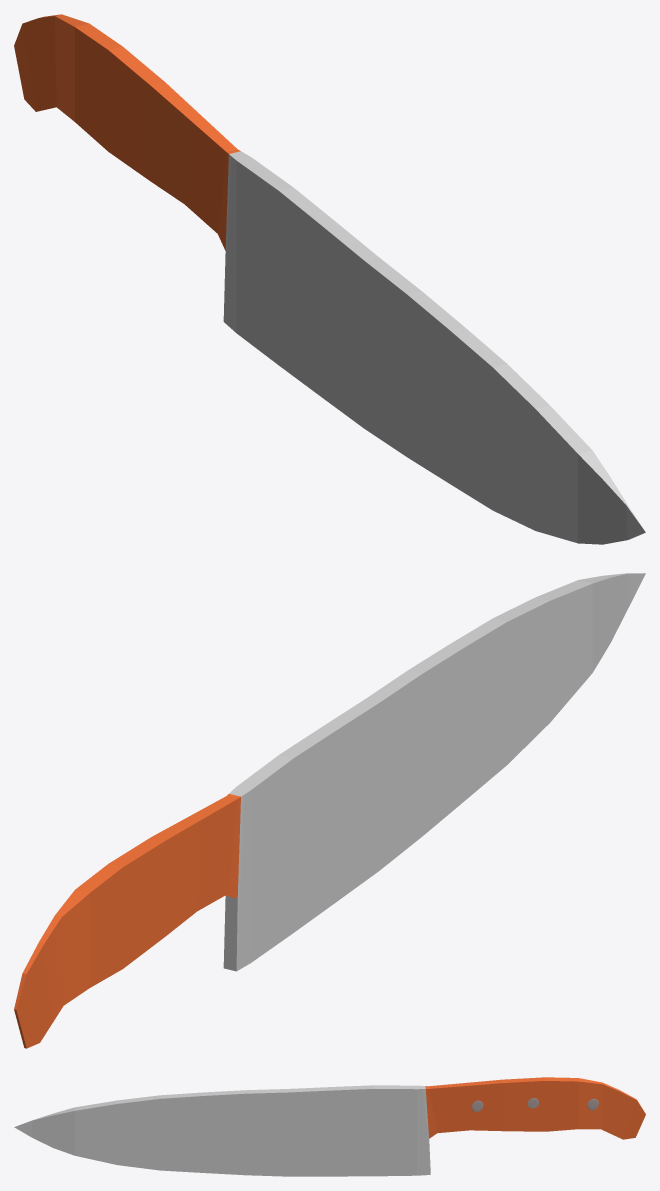
File: knife 2.fbx
3 renders of one model, top to bottom at view 1: azimuth 30°, elevation 25°; view 2: azimuth 150°, elevation 25°; view 3: azimuth 270°, elevation 25°, orthographic. The views are drawn at different scales.
Visible parts, largest first — view 1: Cube.001; view 2: Cube.001; view 3: Cube.001, Cube.002.
Boxes of the visible parts, left/top/right/bottom form: Cube.001: left=14, top=14, right=645, bottom=544; Cube.001: left=14, top=573, right=645, bottom=1048; Cube.001: left=14, top=1077, right=645, bottom=1176; Cube.002: left=471, top=1098, right=598, bottom=1111.
Bounding box in the file's own units: 3.96 × 43.16 × 258.
